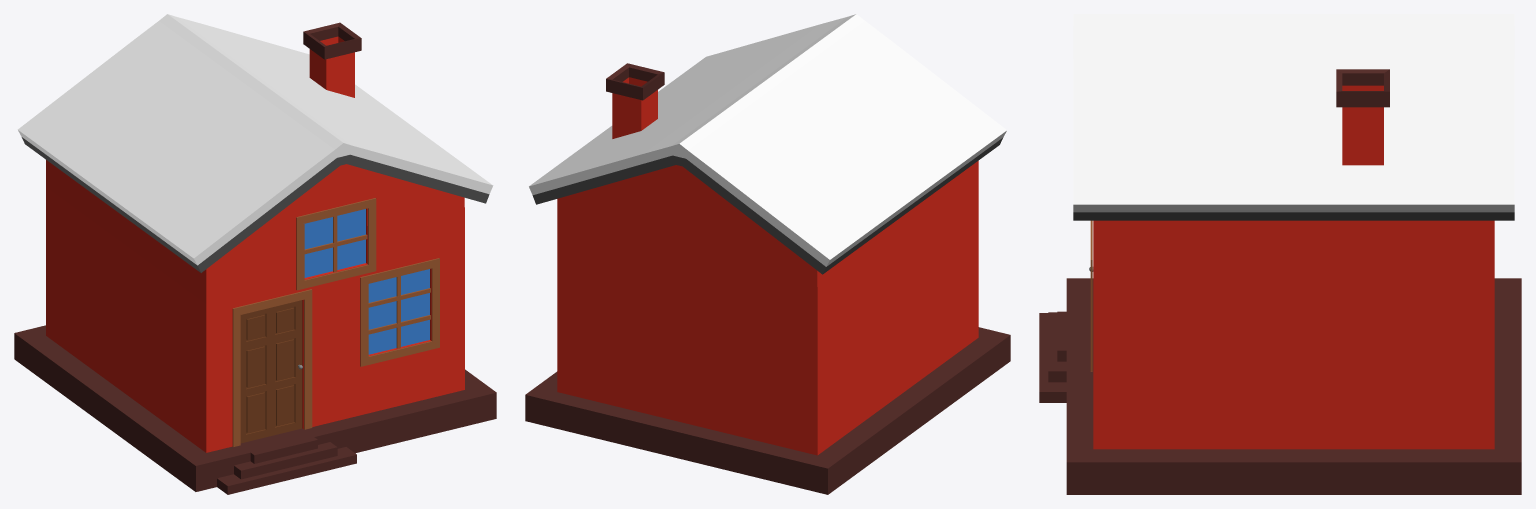
Rendered from House (3).fbx.
3 renders of one model, left to right at view 1: azimuth 30°, elevation 25°; view 2: azimuth 150°, elevation 25°; view 3: azimuth 270°, elevation 25°, orthographic. The views are drawn at different scales.
Visible parts, largest first — view 1: House, Roof, Door, Window, Chimney, Window1, Platband, Platband.003, Platband.004, Platband.002, Platband.005, Partition (+1 smaller); view 2: House, Roof, Chimney; view 3: House, Roof, Chimney.
Part boxes in pixels (bbox=[...]): House: bbox=[14, 160, 496, 494]; Roof: bbox=[18, 14, 493, 272]; Door: bbox=[240, 300, 302, 443]; Window: bbox=[368, 269, 429, 354]; Chimney: bbox=[303, 22, 361, 97]; Window1: bbox=[304, 209, 365, 277]; Platband: bbox=[232, 290, 312, 447]; Platband.003: bbox=[360, 258, 439, 366]; Platband.004: bbox=[296, 198, 375, 290]; Platband.002: bbox=[360, 258, 439, 366]; Platband.005: bbox=[296, 198, 376, 289]; Partition: bbox=[368, 288, 430, 334]; House: bbox=[525, 161, 1010, 494]; Roof: bbox=[529, 14, 1006, 274]; Chimney: bbox=[606, 63, 664, 138]; House: bbox=[1039, 220, 1521, 494]; Roof: bbox=[1073, 14, 1514, 220]; Chimney: bbox=[1336, 69, 1389, 165].
Bounding box in the file's own units: 1691 × 1667 × 1873.
